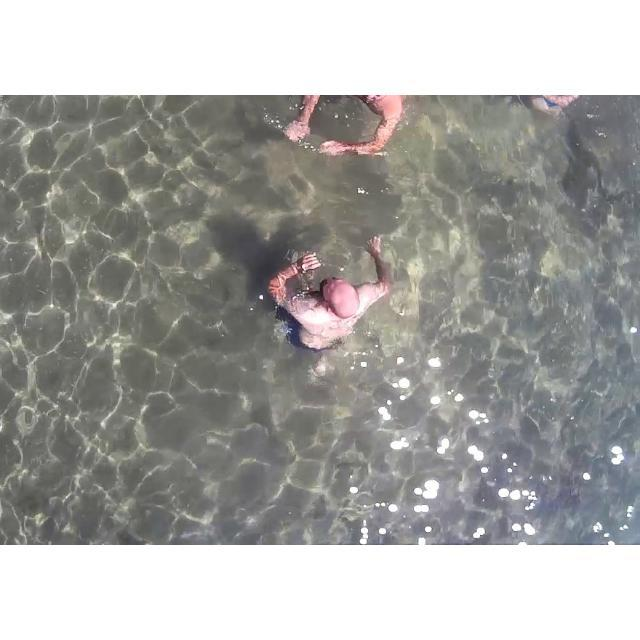human: (257, 222, 402, 363), (288, 95, 439, 161), (507, 95, 605, 121)
